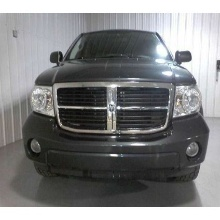no damage: (21, 30, 211, 187)
